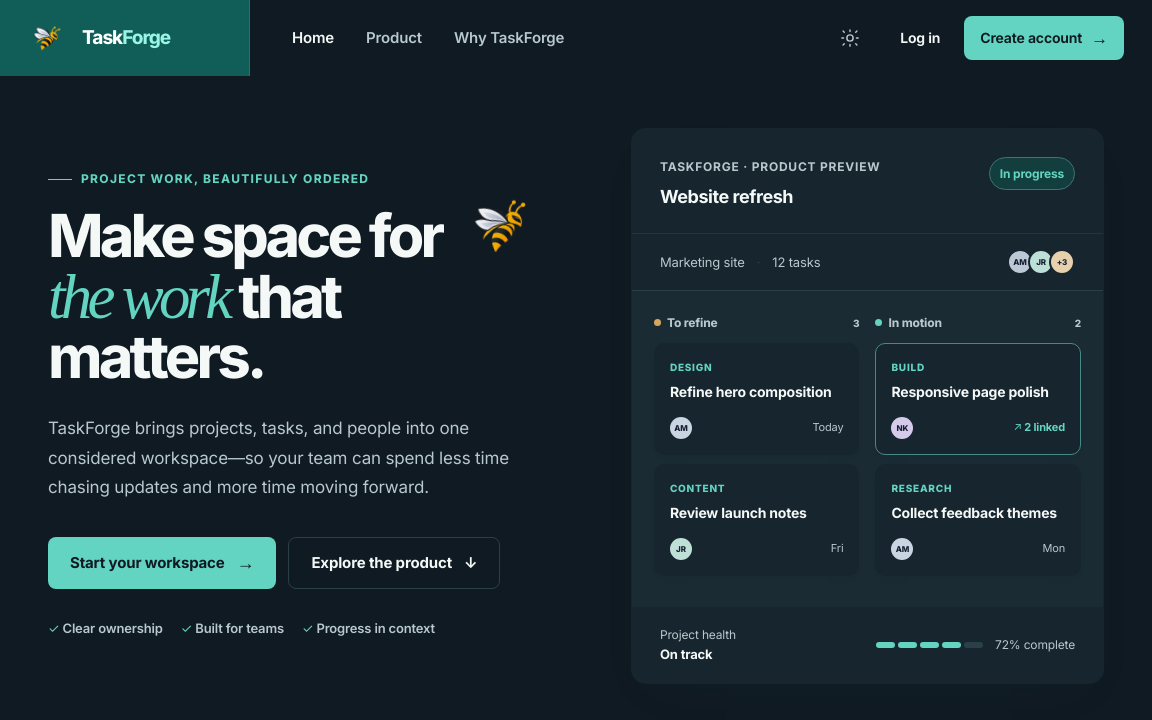
Scenario: Home navigation › persists theme changes from the icon-only navbar control
The width and height of the screenshot is (1152, 720).
Click the button named "Switch to light theme": (850, 38) [830, 18, 870, 58]
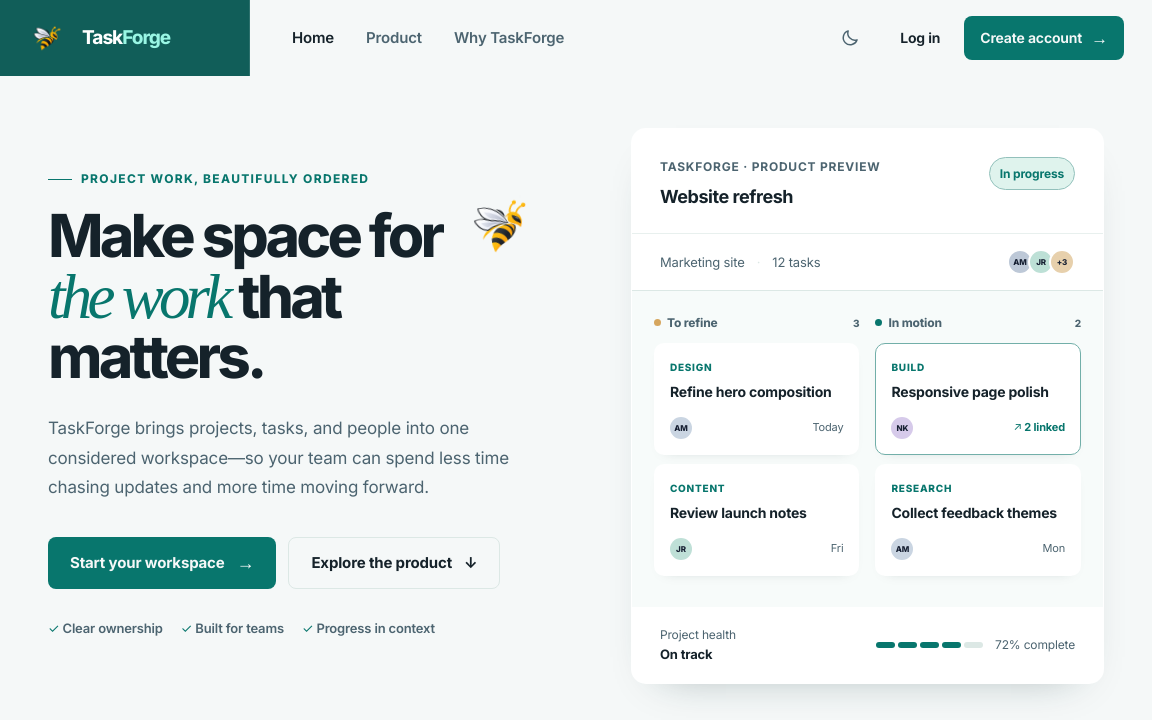
Result: the button named "Switch to dark theme" is shown at [830, 18, 870, 58]
